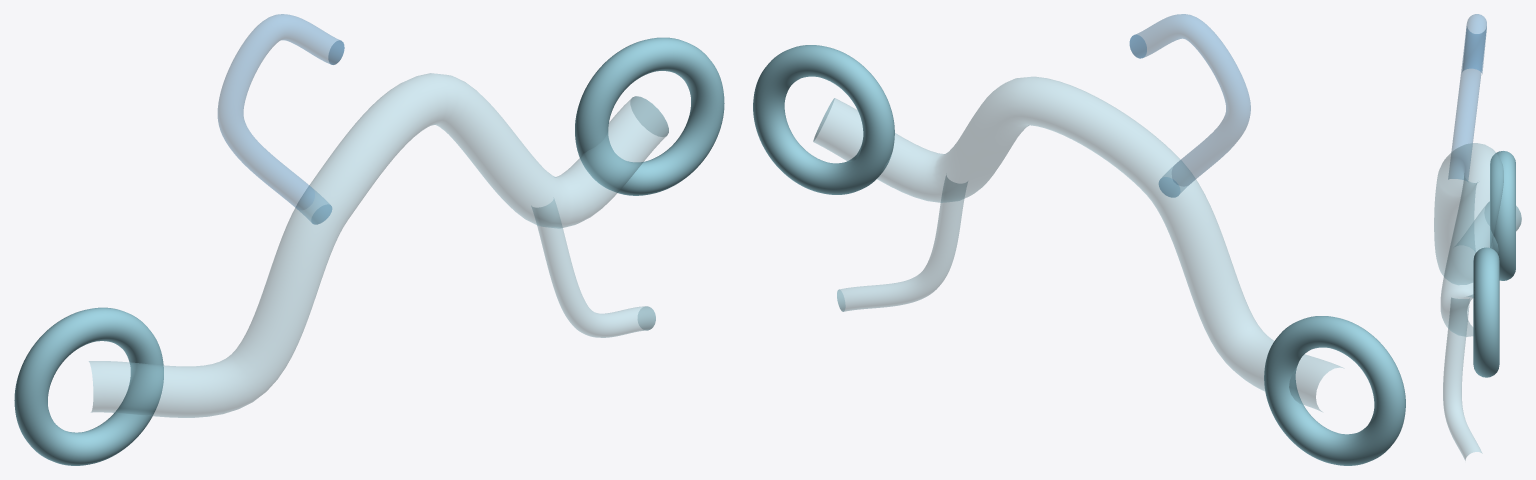
The picture shows the model from 3 angles, left to right: view 1: azimuth 30°, elevation 25°; view 2: azimuth 150°, elevation 25°; view 3: azimuth 270°, elevation 25°; orthographic projection. The views are drawn at different scales.
Parts seen in each view (by area): view 1: tendril-main, socket-1, socket-0, tendril-curl, tendril-branch; view 2: tendril-main, socket-1, socket-0, tendril-curl, tendril-branch; view 3: tendril-main, tendril-curl, socket-1, tendril-branch, socket-0.
Part boxes in pixels (left/top/right/bottom): tendril-main: left=89, top=73, right=668, bottom=417; socket-1: left=575, top=37, right=724, bottom=195; socket-0: left=14, top=307, right=163, bottom=465; tendril-curl: left=218, top=14, right=344, bottom=224; tendril-branch: left=531, top=199, right=655, bottom=337; tendril-main: left=813, top=77, right=1342, bottom=411; socket-1: left=753, top=45, right=894, bottom=194; socket-0: left=1264, top=316, right=1405, bottom=465; tendril-curl: left=1129, top=14, right=1250, bottom=197; tendril-branch: left=837, top=175, right=967, bottom=311; tendril-main: left=1434, top=143, right=1521, bottom=336; tendril-curl: left=1448, top=14, right=1486, bottom=180; socket-1: left=1473, top=247, right=1499, bottom=377; tendril-branch: left=1443, top=298, right=1482, bottom=460; socket-0: left=1490, top=151, right=1515, bottom=280.
Bounding box in the file's own units: 2.63 × 1.51 × 0.3706.
